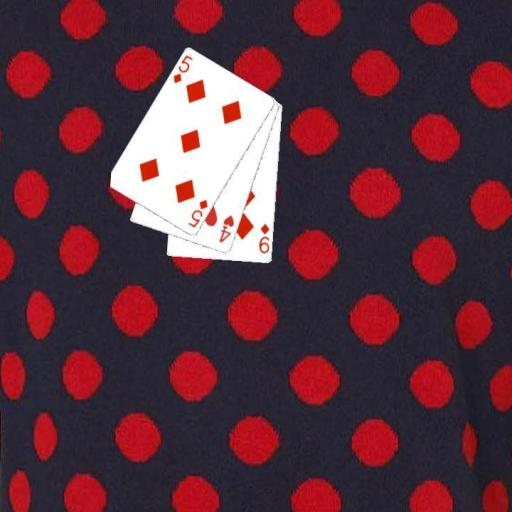4H: (216, 212, 236, 245)
5D: (185, 196, 209, 230), (170, 52, 194, 85)
9D: (256, 221, 271, 256)
